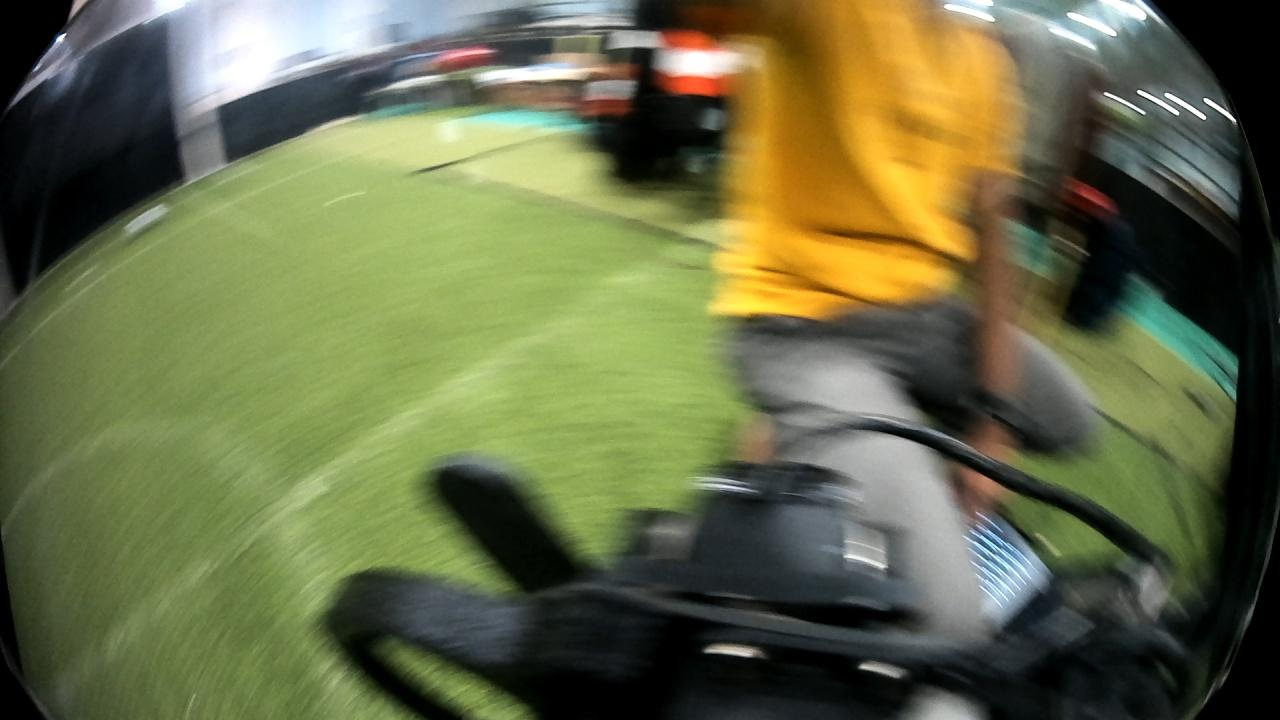ball: (115, 197, 168, 248)
